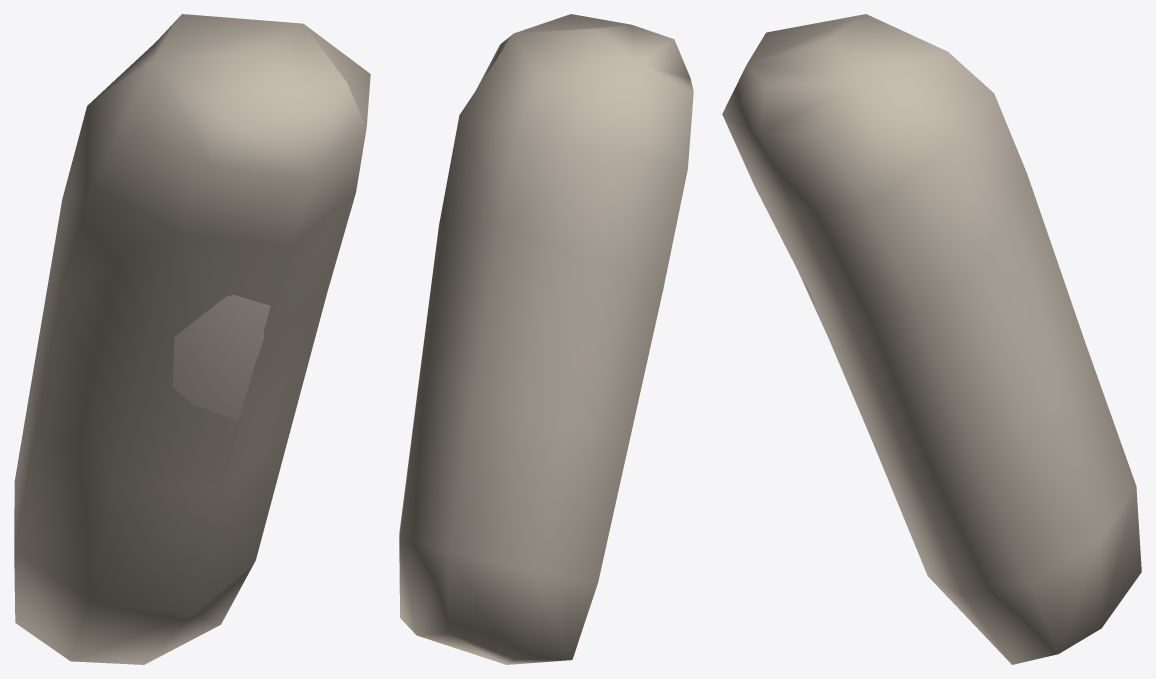
The model's file is vertebrae caudales 20.fbx.
3 renders of one model, left to right at view 1: azimuth 30°, elevation 25°; view 2: azimuth 150°, elevation 25°; view 3: azimuth 270°, elevation 25°, orthographic. The views are drawn at different scales.
Parts seen in each view (by area): view 1: vertebrae caudales 20, vertebrae caudales 20 low; view 2: vertebrae caudales 20, vertebrae caudales 20 low; view 3: vertebrae caudales 20.
Part boxes in pixels (x1,y1,x2,y2): vertebrae caudales 20: (14,14,370,664); vertebrae caudales 20 low: (172,295,270,420); vertebrae caudales 20: (399,14,693,664); vertebrae caudales 20 low: (473,591,503,614); vertebrae caudales 20: (722,14,1141,664).
Bounding box in the file's own units: 0.2743 × 0.6641 × 0.4125.
1 material, 1 textured.
